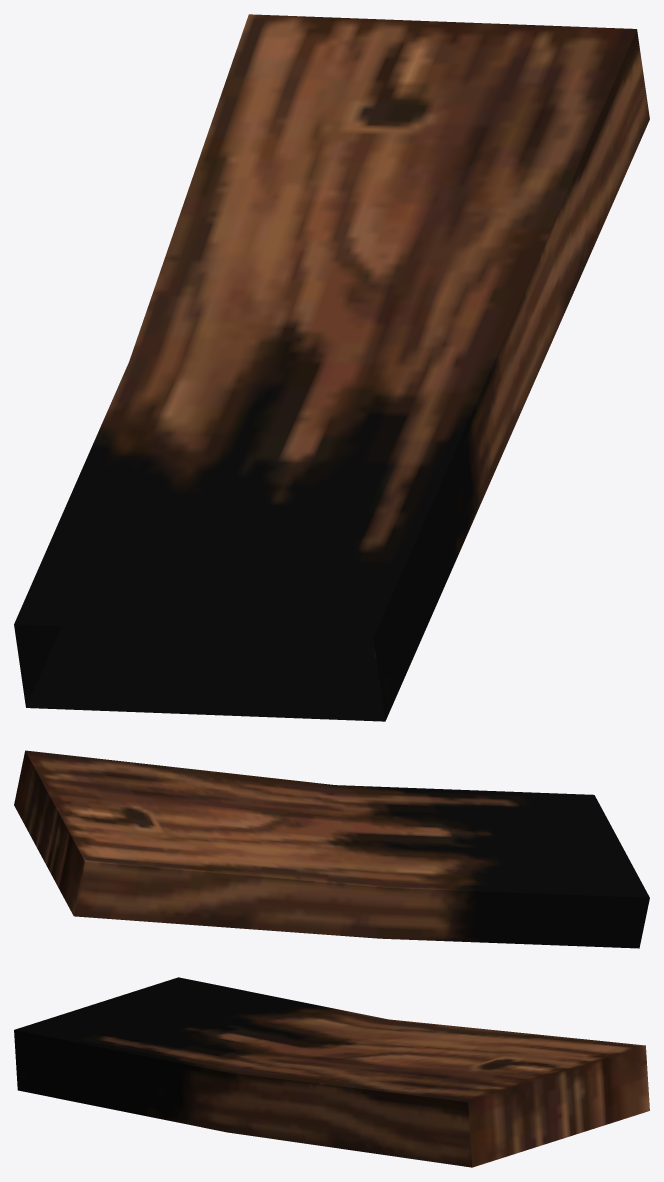
The model's file is ANIMATEDINSTANCES_BOARD_FALL3__BA.fbx.
The picture shows the model from 3 angles, top to bottom: view 1: azimuth 30°, elevation 25°; view 2: azimuth 150°, elevation 25°; view 3: azimuth 270°, elevation 25°; orthographic projection. The views are drawn at different scales.
Visible parts, largest first — view 1: ANIMATEDINSTANCES_BOARD_FALL3__BA; view 2: ANIMATEDINSTANCES_BOARD_FALL3__BA; view 3: ANIMATEDINSTANCES_BOARD_FALL3__BA.
Part boxes in pixels (<box>): ANIMATEDINSTANCES_BOARD_FALL3__BA: <box>14,14,649,721</box>; ANIMATEDINSTANCES_BOARD_FALL3__BA: <box>14,750,649,948</box>; ANIMATEDINSTANCES_BOARD_FALL3__BA: <box>14,977,649,1167</box>.
Size of the model in its own units: 8779 by 2955 by 8880.
1 material, 1 textured.
